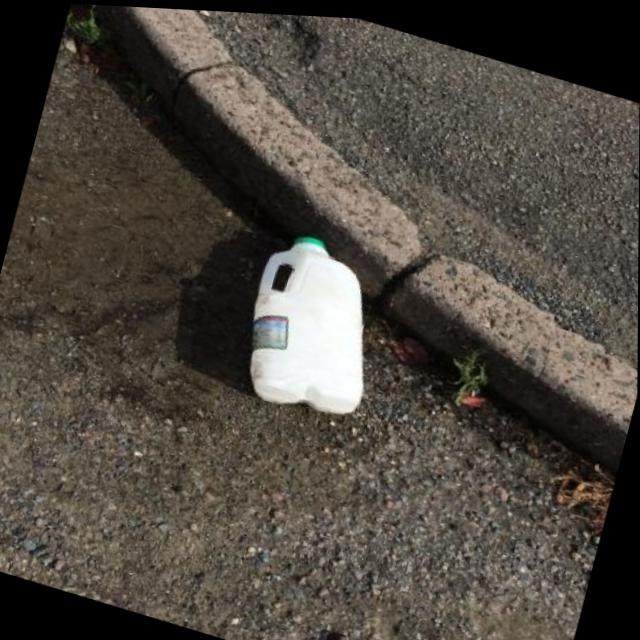plastic: (230, 221, 398, 430)
